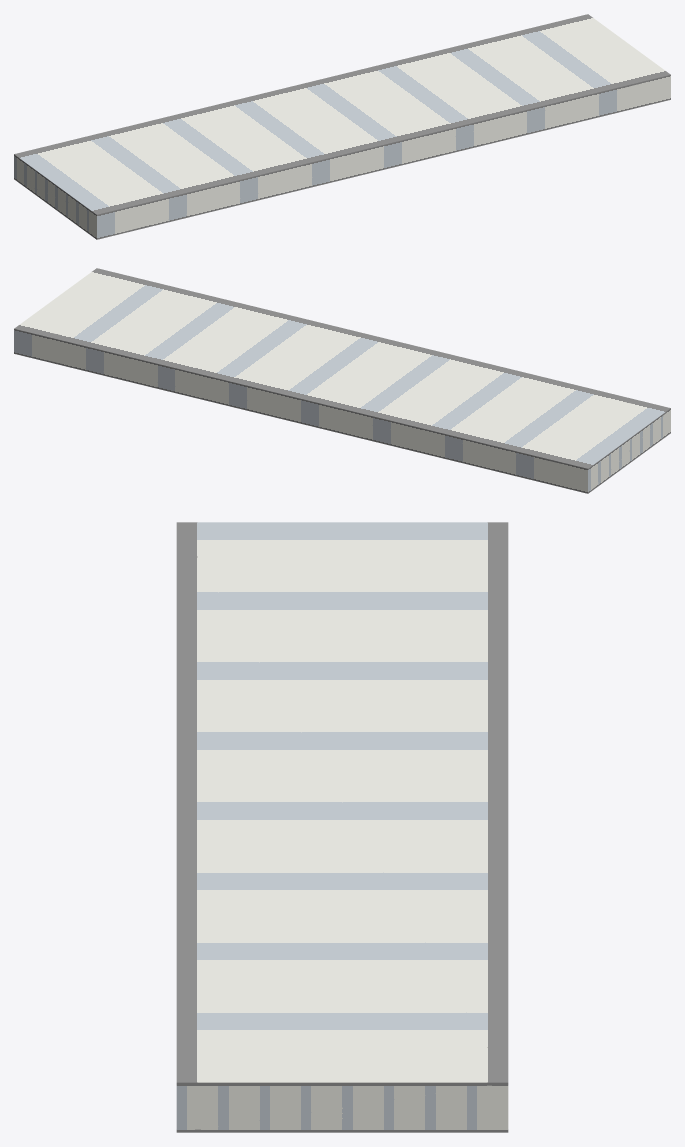
Rendered from CeilingLight_03_Normal.fbx.
3 renders of one model, top to bottom at view 1: azimuth 30°, elevation 25°; view 2: azimuth 150°, elevation 25°; view 3: azimuth 270°, elevation 25°, orthographic. The views are drawn at different scales.
Visible parts, largest first — view 1: CeilingLight_03.001; view 2: CeilingLight_03.001; view 3: CeilingLight_03.001.
Boxes of the visible parts, <box> form: CeilingLight_03.001: <box>14,14,670,239</box>; CeilingLight_03.001: <box>14,268,670,493</box>; CeilingLight_03.001: <box>176,522,508,1132</box>.
Size of the model in its own units: 120 by 5 by 30.
